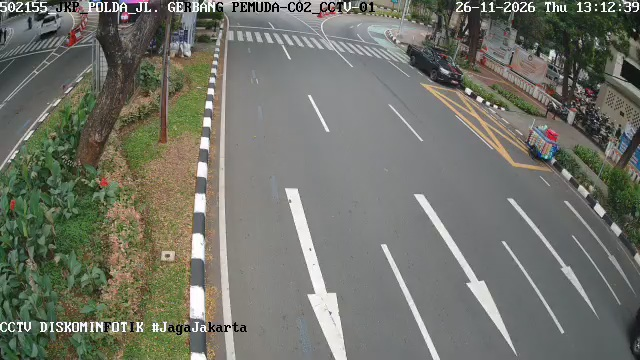Gerobak: (524, 119, 561, 162)
